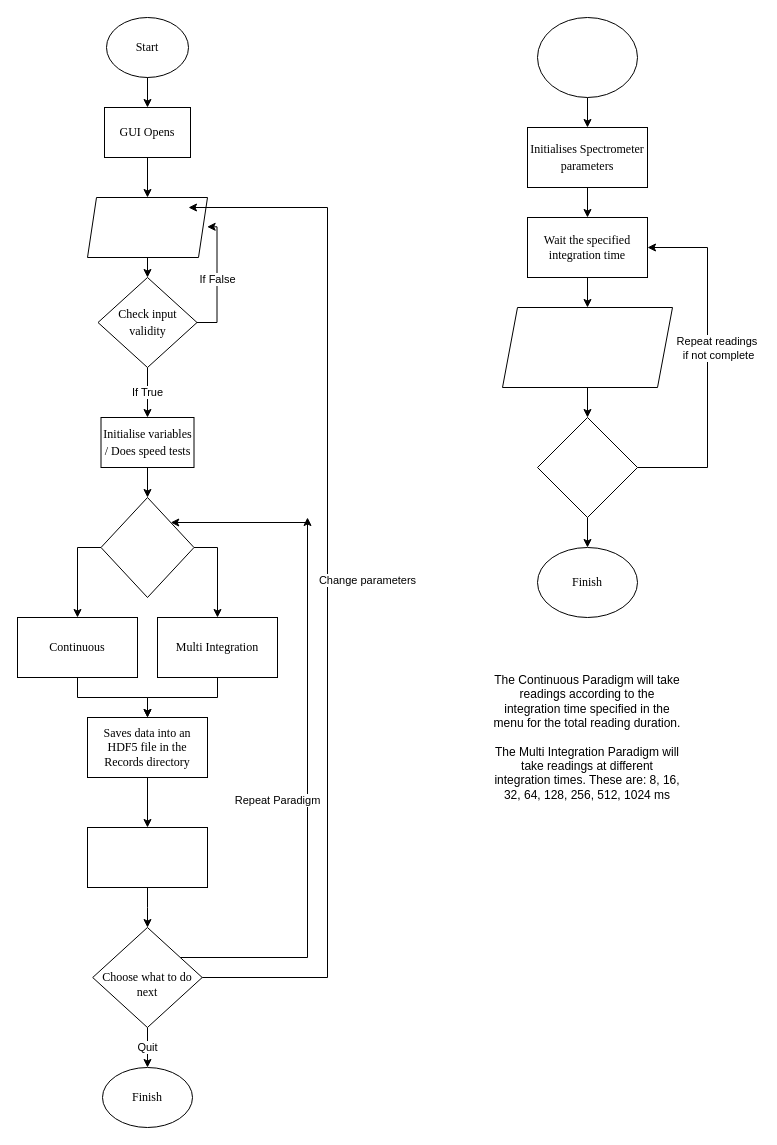
This 777x1145 diagram has some shape labels left out. The centre of each missing label's shape, as x and y in pixels:
Check if all readings have been taken: (587,467)
Generates output plots: (147,857)
Input desired parameters: (147,227)
Paradigm Start: (587,57)
Takes Spectrometer, Powermeter and Photodiode readings: (587,347)
Which paradigm?: (147,547)
